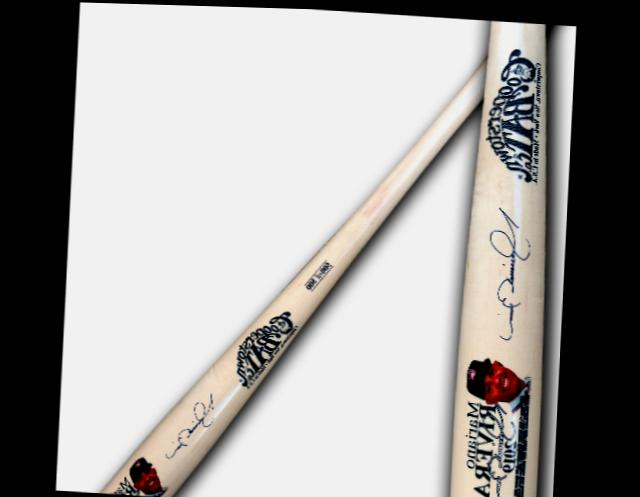baseball bat: (446, 16, 564, 497)
